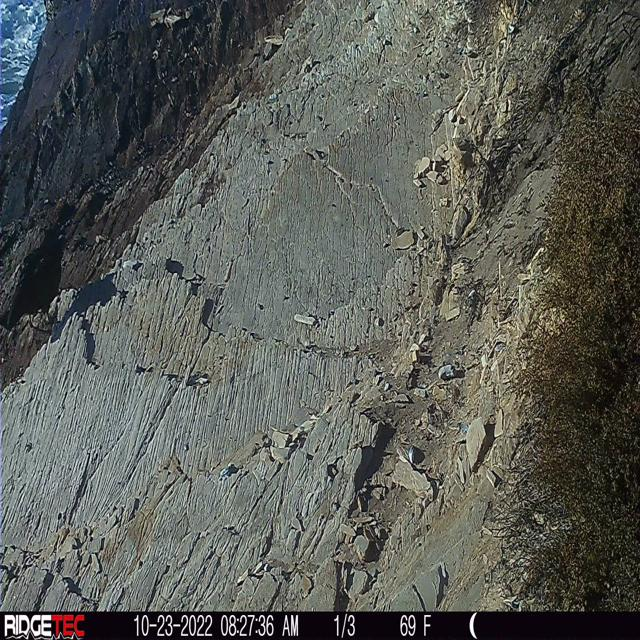bird: (1, 210, 74, 348)
